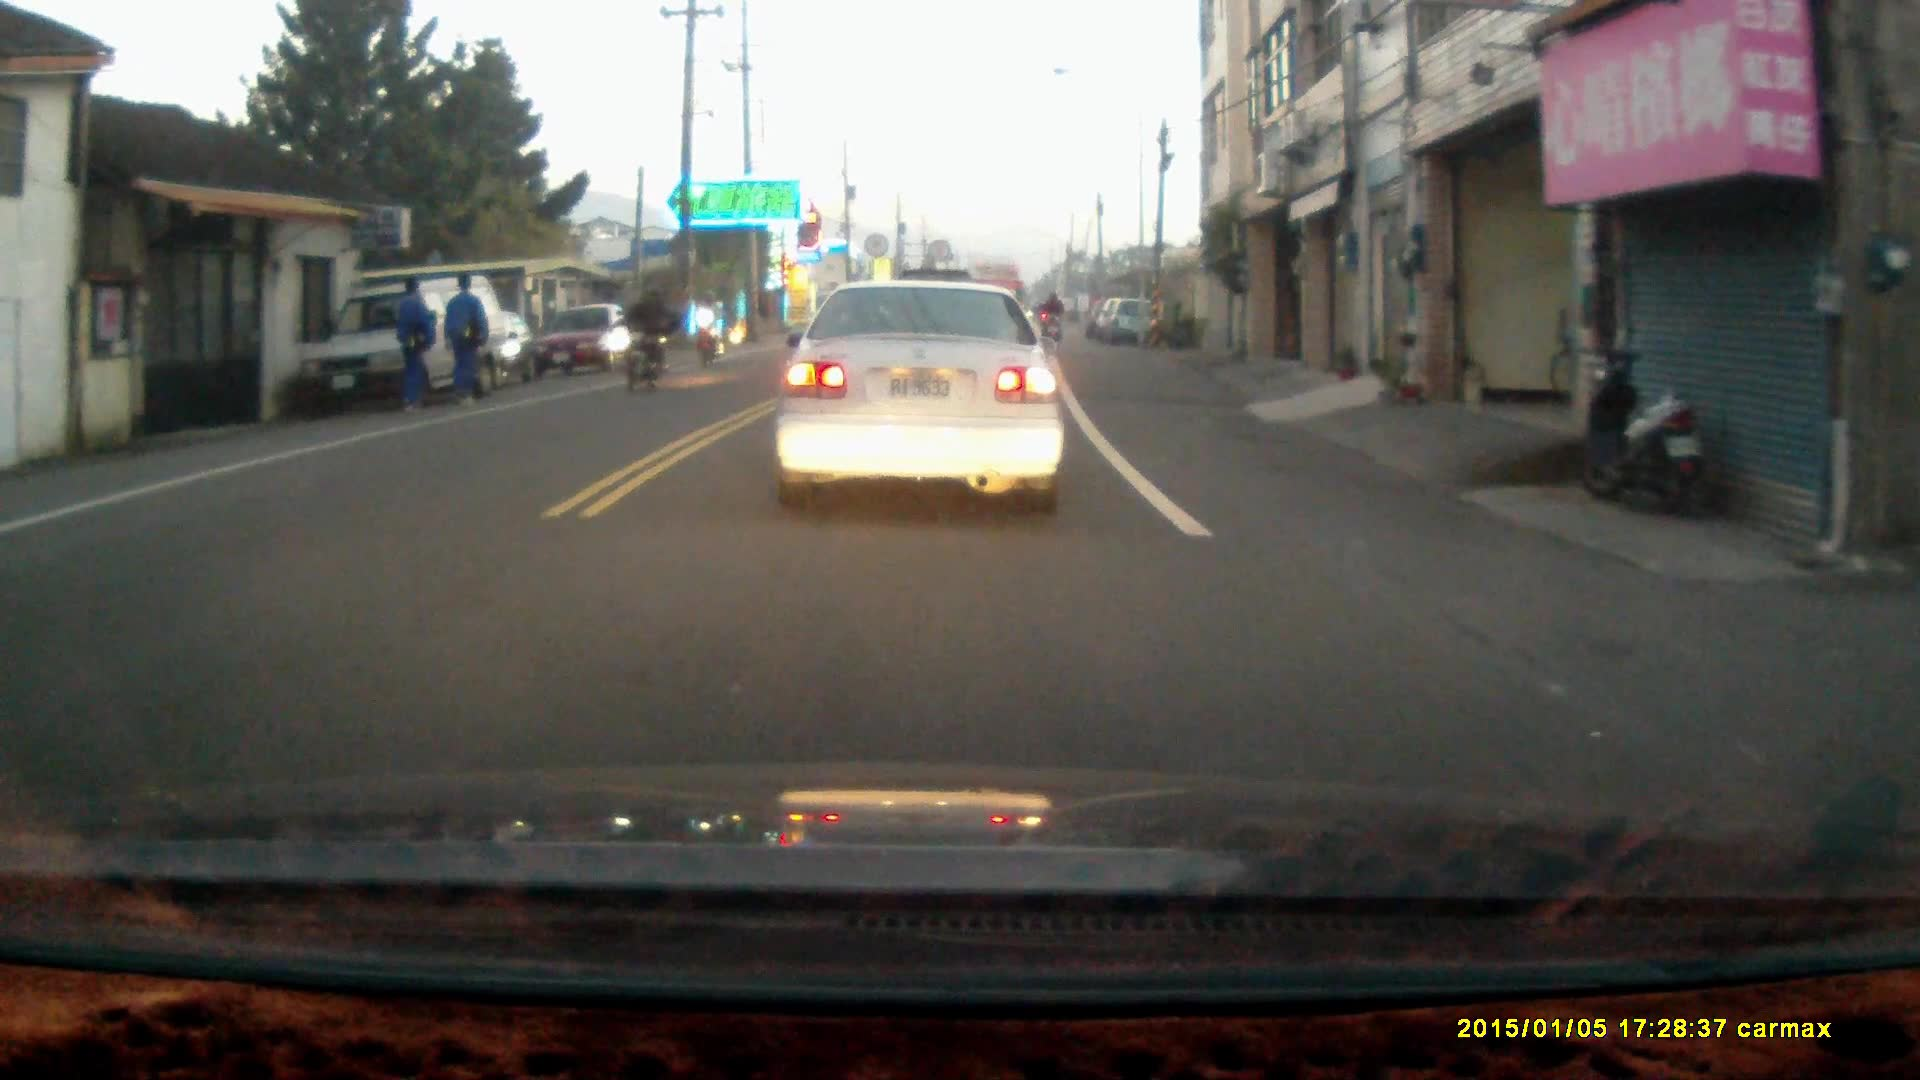pedestrian: (437, 269, 488, 409), (385, 278, 433, 413)
rider: (617, 283, 678, 391), (691, 286, 724, 367)
vehicle: (771, 274, 1069, 513), (299, 276, 522, 407), (531, 303, 645, 378)
